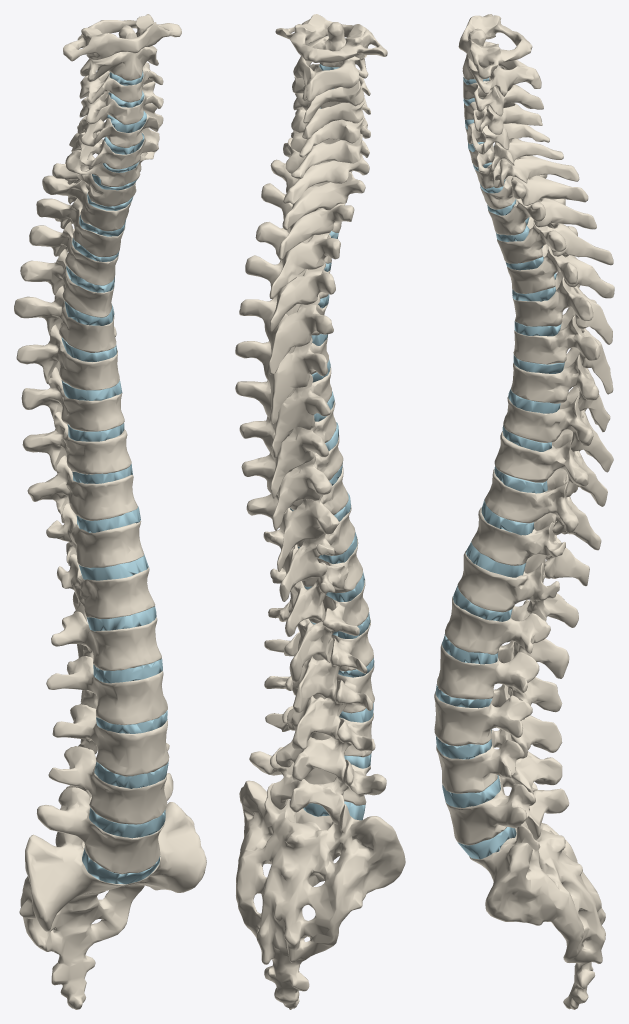
Rendered from spine.glb.
3 renders of one model, left to right at view 1: azimuth 30°, elevation 25°; view 2: azimuth 150°, elevation 25°; view 3: azimuth 270°, elevation 25°, orthographic. The views are drawn at different scales.
Visible parts, largest first — view 1: Thoracic_vertebrae, Lumbar_vertebrae, Sacrum, Intervertebral_discs, Cervical_vertebrae; view 2: Thoracic_vertebrae, Sacrum, Lumbar_vertebrae, Cervical_vertebrae, Intervertebral_discs; view 3: Thoracic_vertebrae, Lumbar_vertebrae, Cervical_vertebrae, Sacrum, Intervertebral_discs.
Part boxes in pixels (<box>): Thoracic_vertebrae: <box>14,152,155,620</box>; Lumbar_vertebrae: <box>36,611,173,874</box>; Sacrum: <box>19,802,206,1009</box>; Intervertebral_discs: <box>61,70,168,884</box>; Cervical_vertebrae: <box>63,14,181,186</box>; Thoracic_vertebrae: <box>235,159,365,636</box>; Sacrum: <box>236,780,405,1009</box>; Lumbar_vertebrae: <box>249,580,386,824</box>; Cervical_vertebrae: <box>275,14,387,204</box>; Intervertebral_discs: <box>290,64,374,820</box>; Thoracic_vertebrae: <box>457,159,614,627</box>; Lumbar_vertebrae: <box>434,596,569,845</box>; Cervical_vertebrae: <box>458,14,579,188</box>; Sacrum: <box>469,782,605,1009</box>; Intervertebral_discs: <box>435,77,564,859</box>.
Bounding box in the file's own units: 0.3492 × 2 × 0.3333.
